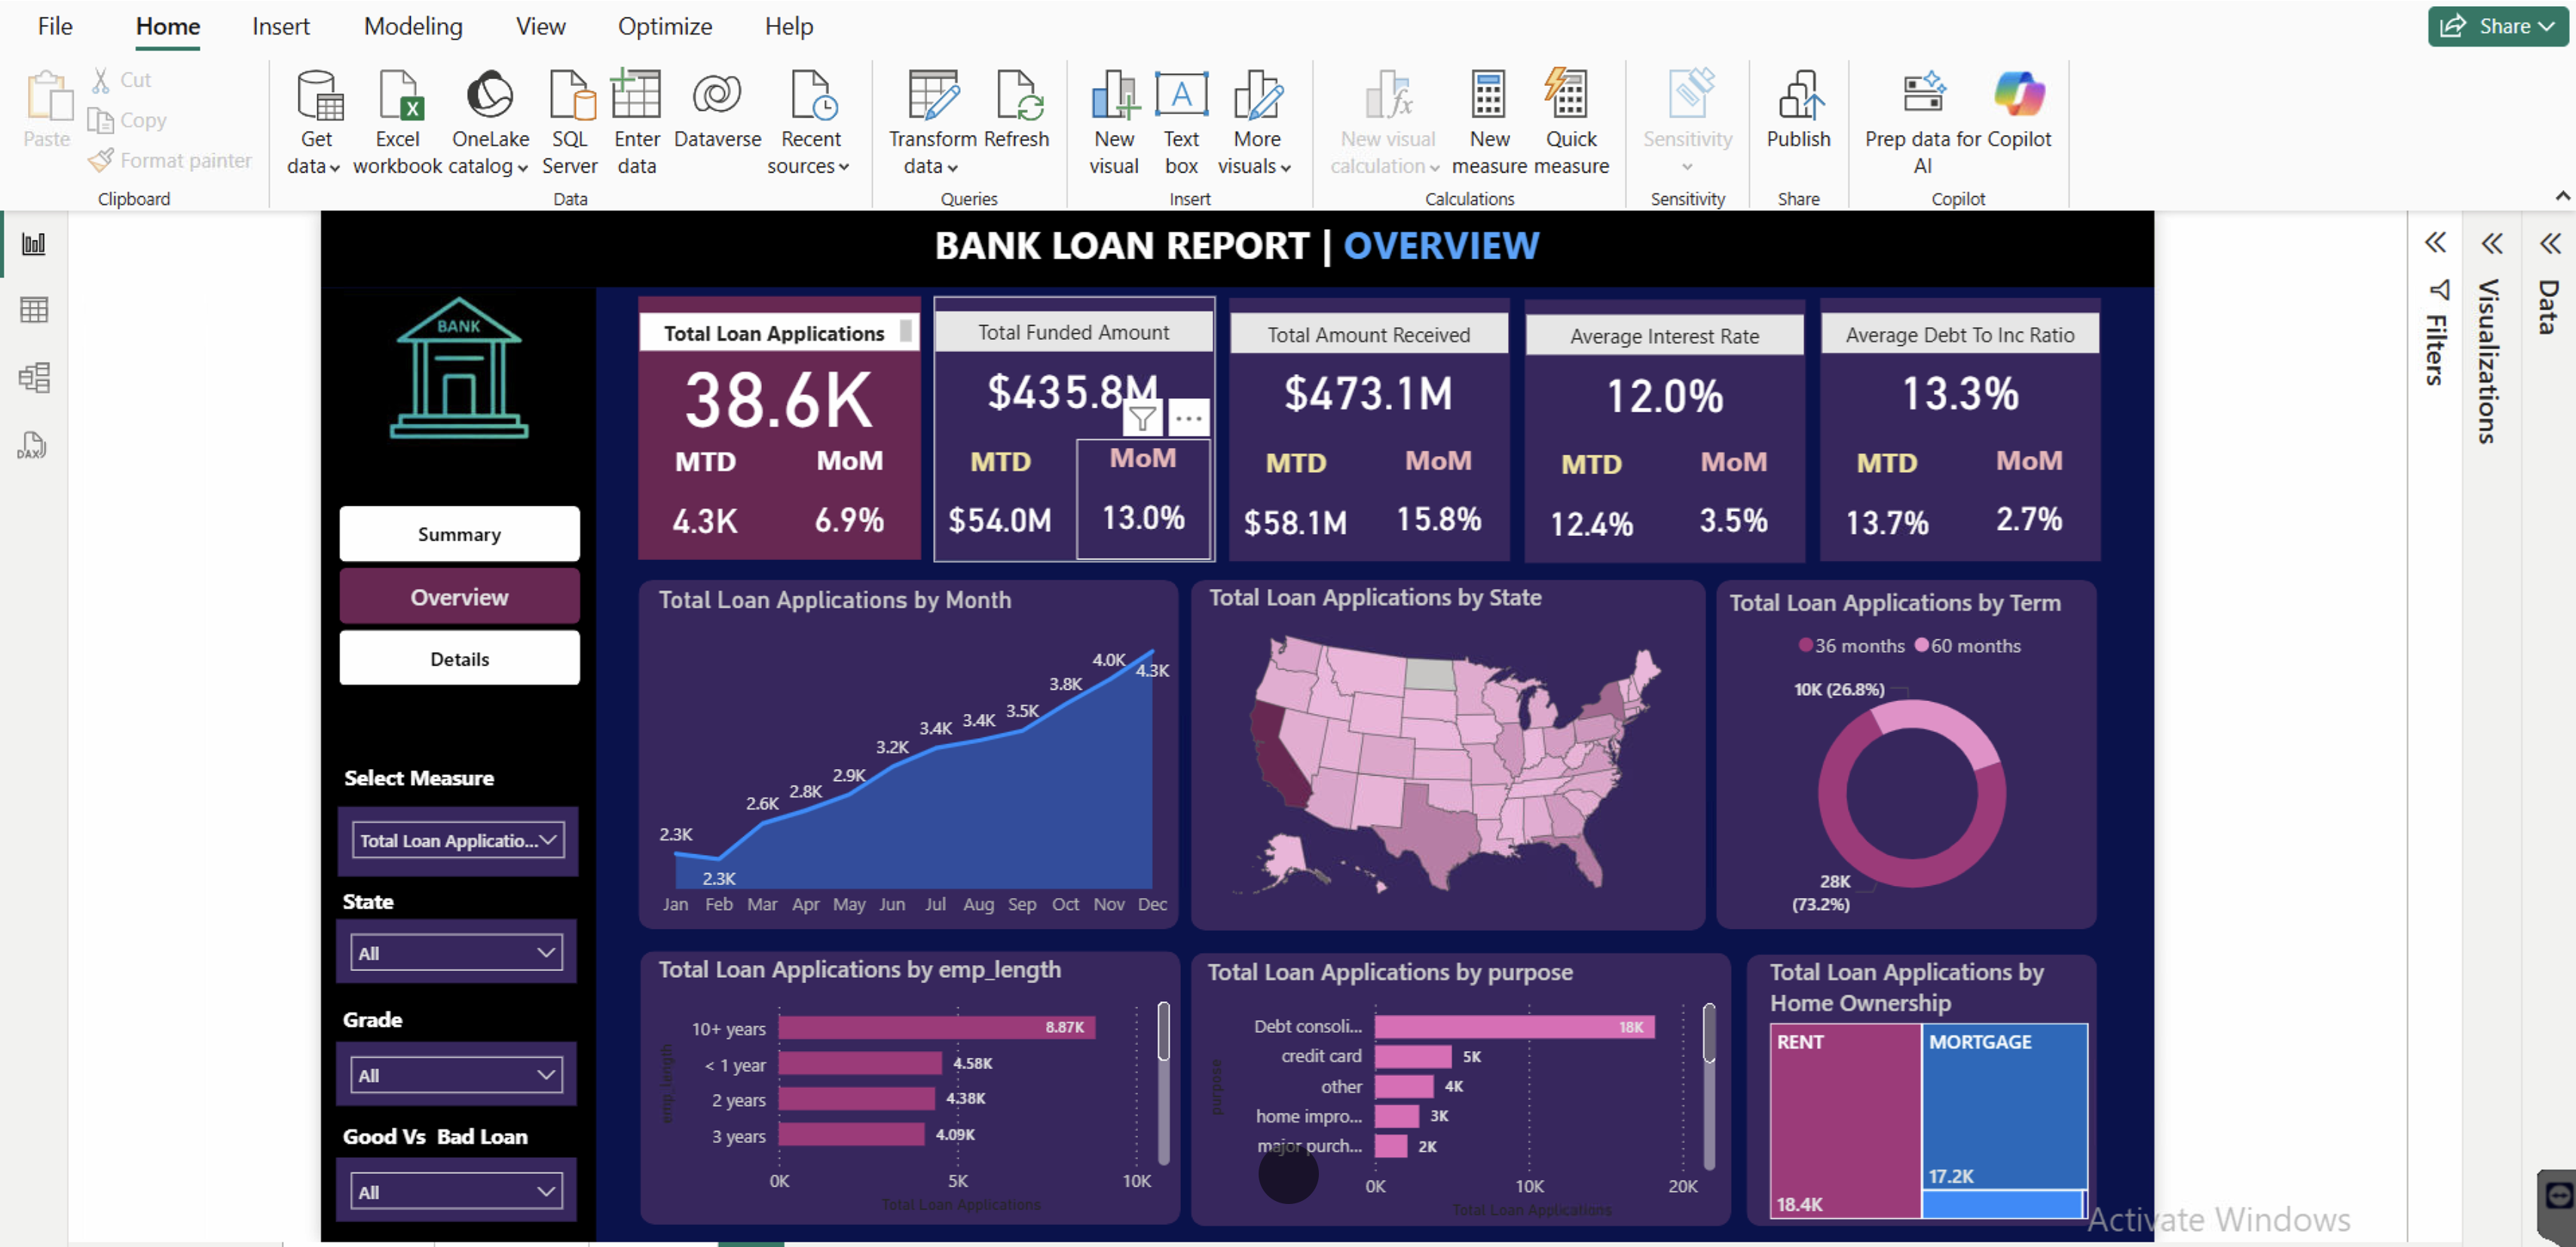

This screenshot's page, from the dashboard's own definition file:
{"tool":"powerbi","page":{"name":"Overview","canvas":[1280,720],"ordinal":1},"visuals":[{"type":"shape","box":[221.7,59.3,197.4,183.9],"z":0,"group":"g1"},{"type":"shape","box":[428.3,59.9,196.2,183.9],"z":0,"group":"g2"},{"type":"shape","box":[633.7,60.5,196.2,183.9],"z":0,"group":"g3"},{"type":"shape","box":[1046.4,61.3,196.2,183.9],"z":0,"group":"g5"},{"type":"shape","box":[839.8,61.9,196.2,183.9],"z":0,"group":"g4"},{"type":"shape","box":[221.5,257.8,377.3,243.8],"z":0,"group":"g6"},{"type":"shape","box":[607.1,257.9,359.7,244.7],"z":0,"group":"g7"},{"type":"shape","box":[973.8,258.1,266,243.8],"z":0,"group":"g8"},{"type":"shape","box":[222.7,516.8,377.3,191],"z":0},{"type":"shape","box":[0,0,1280.3,53.5],"z":1000},{"type":"card","fields":{"Values":["financial_loans_clean.Total Loan Applications"]},"box":[230.3,89.4,179.3,70.3],"z":1000,"group":"g1"},{"type":"card","fields":{"Values":["financial_loans_clean.Total Funded Amount"]},"box":[439,89.6,174.3,70],"z":1000,"group":"g2"},{"type":"card","fields":{"Values":["financial_loans_clean.Total Amount Recieved"]},"box":[644.4,90.2,174.3,70],"z":1000,"group":"g3"},{"type":"card","fields":{"Values":["financial_loans_clean.Average DtI"]},"box":[1057.1,91,174.3,70],"z":1000,"group":"g5"},{"type":"card","fields":{"Values":["financial_loans_clean.Average Int Rate"]},"box":[850.5,91.6,174.3,70],"z":1000,"group":"g4"},{"type":"shapeMap","fields":{"Value":["financial_loans_clean.Total Loan Applications"],"Category":["financial_loans_clean.address_state"]},"box":[615.8,257.7,342.2,236.7],"z":1000,"group":"g7"},{"type":"donutChart","fields":{"Y":["financial_loans_clean.Total Loan Applications"],"Category":["financial_loans_clean.term"]},"box":[978.7,261.8,264.8,240.2],"z":1000,"group":"g8"},{"type":"shape","box":[0,53.5,192.1,666.9],"z":2000},{"type":"textbox","box":[429.7,70.9,193.5,28],"z":2000,"group":"g2"},{"type":"textbox","box":[222.9,71.4,195,26.7],"z":2000,"group":"g1"},{"type":"textbox","box":[635.1,71.5,193.5,28],"z":2000,"group":"g3"},{"type":"textbox","box":[1047.8,72.3,193.5,28],"z":2000,"group":"g5"},{"type":"textbox","box":[841.2,72.9,193.5,28],"z":2000,"group":"g4"},{"type":"textbox","box":[418.4,0,443,53.9],"z":3000},{"type":"card","title":"MTD","fields":{"Values":["financial_loans_clean.MTD Loan Applications"]},"box":[221.7,160.9,93.9,83.7],"z":3000,"group":"g1"},{"type":"card","title":"MTD","fields":{"Values":["financial_loans_clean.MTD Funded Amount"]},"box":[428.3,161.4,93.3,83.7],"z":3000,"group":"g2"},{"type":"card","title":"MTD","fields":{"Values":["financial_loans_clean.MTD Total Amount Received"]},"box":[633.7,162,93.3,83.7],"z":3000,"group":"g3"},{"type":"card","title":"MTD","fields":{"Values":["financial_loans_clean.MTD Debt To Income Ratio"]},"box":[1046.4,162.8,93.3,83.7],"z":3000,"group":"g5"},{"type":"card","title":"MTD","fields":{"Values":["financial_loans_clean.MTD Int Rate"]},"box":[839.8,163.4,93.3,83.7],"z":3000,"group":"g4"},{"type":"group","id":"g1","title":"Group 1","box":[221.7,59.3,197.4,185.3],"z":4000},{"type":"card","title":"MoM","fields":{"Values":["financial_loans_clean.MoM Loan Applications"]},"box":[322.5,159.5,93.9,83.7],"z":4000,"group":"g1"},{"type":"card","title":"MoM","fields":{"Values":["financial_loans_clean.MoMFunded Amount"]},"box":[528.5,160.1,93.3,83.7],"z":4000,"group":"g2"},{"type":"card","title":"MoM","fields":{"Values":["financial_loans_clean.MoM Amount Received"]},"box":[733.9,160.7,93.3,83.7],"z":4000,"group":"g3"},{"type":"card","title":"MoM","fields":{"Values":["financial_loans_clean.MoM AVG DtI"]},"box":[1146.6,161.5,93.3,83.7],"z":4000,"group":"g5"},{"type":"card","title":"MoM","fields":{"Values":["financial_loans_clean.MoM AVG INT RATE"]},"box":[940,162.1,93.3,83.7],"z":4000,"group":"g4"},{"type":"group","id":"g2","title":"Group 1","box":[428.3,59.9,196.2,185.2],"z":5000},{"type":"group","id":"g3","title":"Group 1","box":[633.7,60.5,196.9,185.2],"z":6000},{"type":"group","id":"g4","title":"Group 1","box":[839.8,61.9,197.4,184.1],"z":7000},{"type":"group","id":"g5","title":"Group 1","box":[1046.4,61.3,197.4,184.1],"z":8000},{"type":"slicer","title":"efve","fields":{"Values":["financial_loans_clean.address_state"]},"box":[10.9,495.1,168.4,44.8],"z":9000},{"type":"textbox","box":[10.9,466,98.1,30.3],"z":10000},{"type":"slicer","fields":{"Values":["financial_loans_clean.grade"]},"box":[10.9,579.8,168.4,44.8],"z":11000},{"type":"textbox","box":[10.9,549.6,98.1,30.3],"z":12000},{"type":"slicer","fields":{"Values":["financial_loans_clean.Good vs Bad Loan"]},"box":[10.9,661,168.4,44.8],"z":13000},{"type":"textbox","box":[10.5,630.5,154.7,30.5],"z":14000},{"type":"areaChart","fields":{"Y":["financial_loans_clean.Total Loan Applications"],"Category":["Date Table.Month"]},"box":[230.3,261.5,366.8,241.4],"z":15000,"group":"g6"},{"type":"slicer","fields":{"Values":["Parameter.Parameter"]},"box":[12.1,415.4,168.4,48.4],"z":15000},{"type":"textbox","box":[12.1,380.3,141.7,30.3],"z":16000},{"type":"shape","box":[994.9,519.1,244.9,189.8],"z":17000},{"type":"group","id":"g6","title":"Group 2","box":[221.5,257.8,377.3,245.1],"z":18000},{"type":"group","id":"g7","title":"Group 3","box":[607.1,257.7,359.7,244.8],"z":19000},{"type":"group","id":"g8","title":"Group 4","box":[973.8,258.1,269.7,244],"z":20000},{"type":"barChart","fields":{"Y":["financial_loans_clean.Total Loan Applications"],"Category":["financial_loans_clean.emp_length"]},"box":[230.9,518,366.8,187.5],"z":21000},{"type":"shape","box":[607,518,377.3,191],"z":22000},{"type":"barChart","fields":{"Y":["financial_loans_clean.Total Loan Applications"],"Category":["financial_loans_clean.purpose"]},"box":[614.1,519.1,364.5,189.8],"z":23000},{"type":"treemap","fields":{"Values":["financial_loans_clean.Total Loan Applications"],"Group":["financial_loans_clean.home_ownership"]},"box":[1006.7,519.1,232,189.8],"z":24000},{"type":"image","box":[12.9,38.7,167.6,141.8],"z":24001},{"type":"pageNavigator","box":[12.9,206.3,168.8,125.4],"z":24002}]}

Visuals, with their boxes on the page's 1280x720 design canvas (x1, y1, x2, y2). These are canvas units, not pixel positions in the 2576x1247 screenshot, which may show the page scaled, cropped or inside an application window:
shape: (left=222, top=59, right=419, bottom=243)
shape: (left=428, top=60, right=624, bottom=244)
shape: (left=634, top=60, right=830, bottom=244)
shape: (left=1046, top=61, right=1243, bottom=245)
shape: (left=840, top=62, right=1036, bottom=246)
shape: (left=222, top=258, right=599, bottom=502)
shape: (left=607, top=258, right=967, bottom=503)
shape: (left=974, top=258, right=1240, bottom=502)
shape: (left=223, top=517, right=600, bottom=708)
shape: (left=0, top=0, right=1280, bottom=54)
card - financial_loans_clean.Total Loan Applications: (left=230, top=89, right=410, bottom=160)
card - financial_loans_clean.Total Funded Amount: (left=439, top=90, right=613, bottom=160)
card - financial_loans_clean.Total Amount Recieved: (left=644, top=90, right=819, bottom=160)
card - financial_loans_clean.Average DtI: (left=1057, top=91, right=1231, bottom=161)
card - financial_loans_clean.Average Int Rate: (left=850, top=92, right=1025, bottom=162)
shapeMap - financial_loans_clean.Total Loan Applications x financial_loans_clean.address_state: (left=616, top=258, right=958, bottom=494)
donutChart - financial_loans_clean.Total Loan Applications x financial_loans_clean.term: (left=979, top=262, right=1244, bottom=502)
shape: (left=0, top=54, right=192, bottom=720)
textbox: (left=430, top=71, right=623, bottom=99)
textbox: (left=223, top=71, right=418, bottom=98)
textbox: (left=635, top=72, right=829, bottom=100)
textbox: (left=1048, top=72, right=1241, bottom=100)
textbox: (left=841, top=73, right=1035, bottom=101)
textbox: (left=418, top=0, right=861, bottom=54)
"MTD" card: (left=222, top=161, right=316, bottom=245)
"MTD" card: (left=428, top=161, right=522, bottom=245)
"MTD" card: (left=634, top=162, right=727, bottom=246)
"MTD" card: (left=1046, top=163, right=1140, bottom=246)
"MTD" card: (left=840, top=163, right=933, bottom=247)
"Group 1" group: (left=222, top=59, right=419, bottom=245)
"MoM" card: (left=322, top=160, right=416, bottom=243)
"MoM" card: (left=528, top=160, right=622, bottom=244)
"MoM" card: (left=734, top=161, right=827, bottom=244)
"MoM" card: (left=1147, top=162, right=1240, bottom=245)
"MoM" card: (left=940, top=162, right=1033, bottom=246)
"Group 1" group: (left=428, top=60, right=624, bottom=245)
"Group 1" group: (left=634, top=60, right=831, bottom=246)
"Group 1" group: (left=840, top=62, right=1037, bottom=246)
"Group 1" group: (left=1046, top=61, right=1244, bottom=245)
"efve" slicer: (left=11, top=495, right=179, bottom=540)
textbox: (left=11, top=466, right=109, bottom=496)
slicer - financial_loans_clean.grade: (left=11, top=580, right=179, bottom=625)
textbox: (left=11, top=550, right=109, bottom=580)
slicer - financial_loans_clean.Good vs Bad Loan: (left=11, top=661, right=179, bottom=706)
textbox: (left=10, top=630, right=165, bottom=661)
areaChart - financial_loans_clean.Total Loan Applications x Date Table.Month: (left=230, top=262, right=597, bottom=503)
slicer - Parameter.Parameter: (left=12, top=415, right=180, bottom=464)
textbox: (left=12, top=380, right=154, bottom=411)
shape: (left=995, top=519, right=1240, bottom=709)
"Group 2" group: (left=222, top=258, right=599, bottom=503)
"Group 3" group: (left=607, top=258, right=967, bottom=502)
"Group 4" group: (left=974, top=258, right=1244, bottom=502)
barChart - financial_loans_clean.Total Loan Applications x financial_loans_clean.emp_length: (left=231, top=518, right=598, bottom=706)
shape: (left=607, top=518, right=984, bottom=709)
barChart - financial_loans_clean.Total Loan Applications x financial_loans_clean.purpose: (left=614, top=519, right=979, bottom=709)
treemap - financial_loans_clean.Total Loan Applications x financial_loans_clean.home_ownership: (left=1007, top=519, right=1239, bottom=709)
image: (left=13, top=39, right=180, bottom=180)
pageNavigator: (left=13, top=206, right=182, bottom=332)
